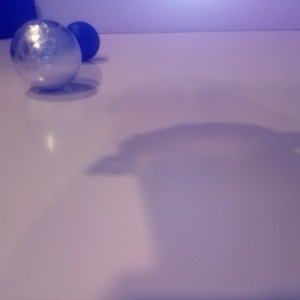alive_ball: (10, 19, 83, 92)
dead_ball: (61, 21, 100, 61)
